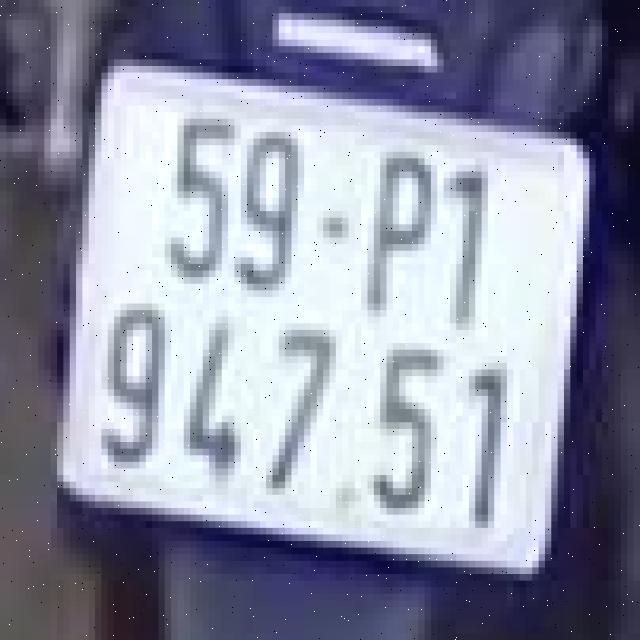1: (453, 353, 517, 538), (440, 138, 491, 336)
4: (171, 310, 254, 488)
5: (152, 106, 241, 310), (361, 333, 444, 531)
7: (260, 313, 342, 505)
9: (98, 294, 174, 478), (241, 118, 310, 316)
P: (348, 138, 444, 316)
